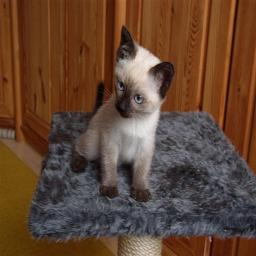catnose: (118, 99, 126, 113)
